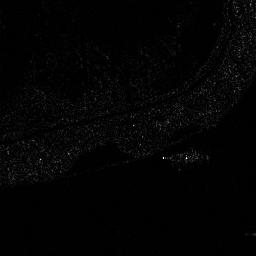ship: (162, 150, 209, 164)
